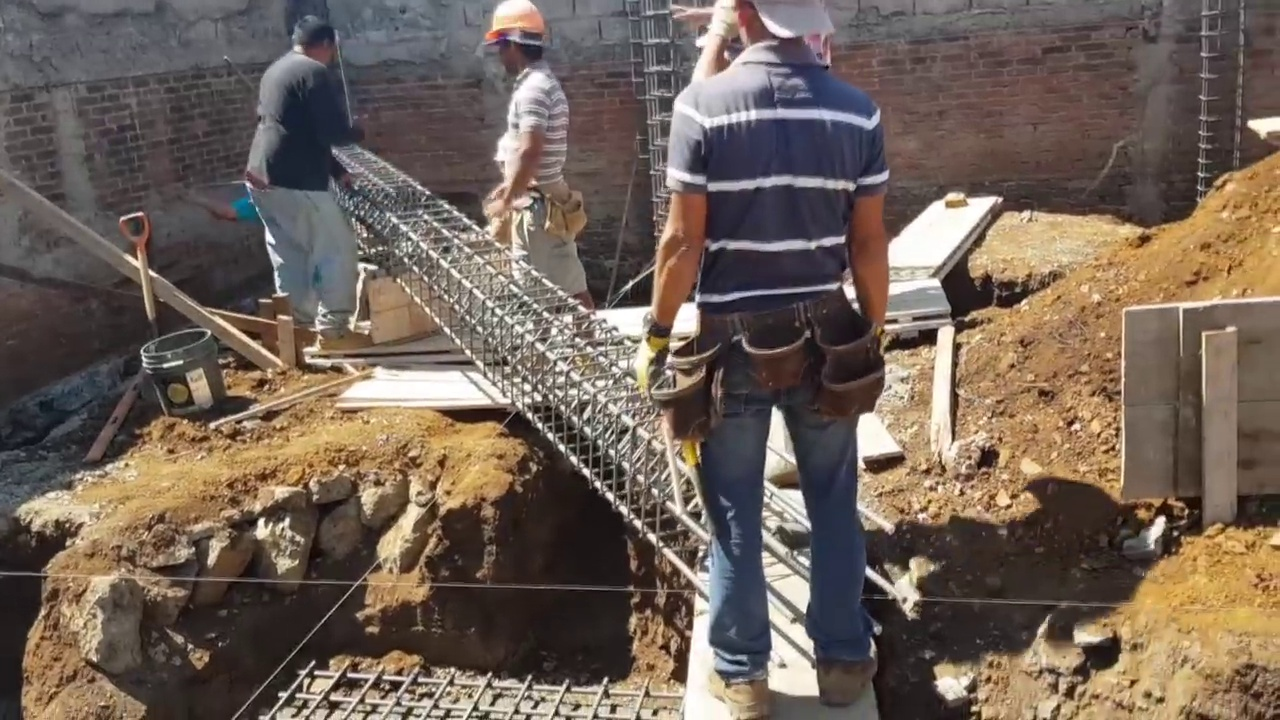helmet: (482, 0, 547, 46)
helmet-off: (736, 0, 834, 69), (283, 10, 331, 64)
helmet-on: (479, 4, 548, 82)
person: (636, 0, 890, 720), (245, 14, 362, 345), (478, 0, 580, 314), (680, 1, 757, 88)
